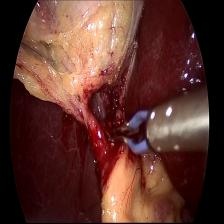Bipolar: (108, 97, 186, 161)
